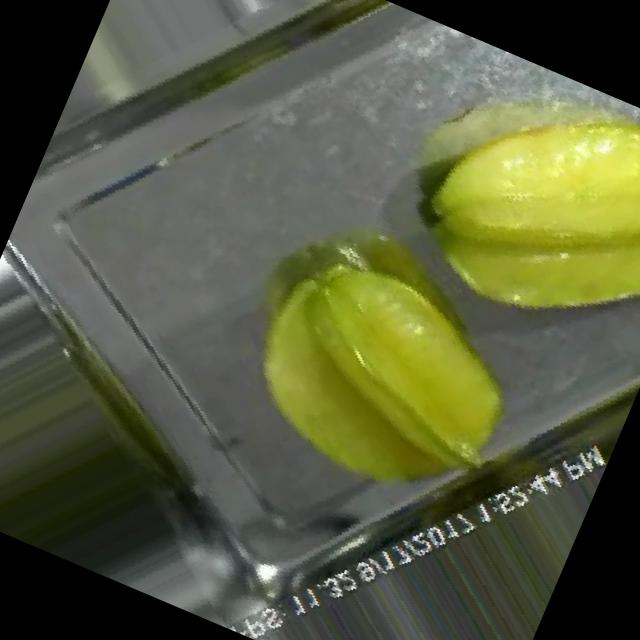fruit: (144, 146, 610, 596), (333, 29, 640, 425), (411, 374, 627, 640)
